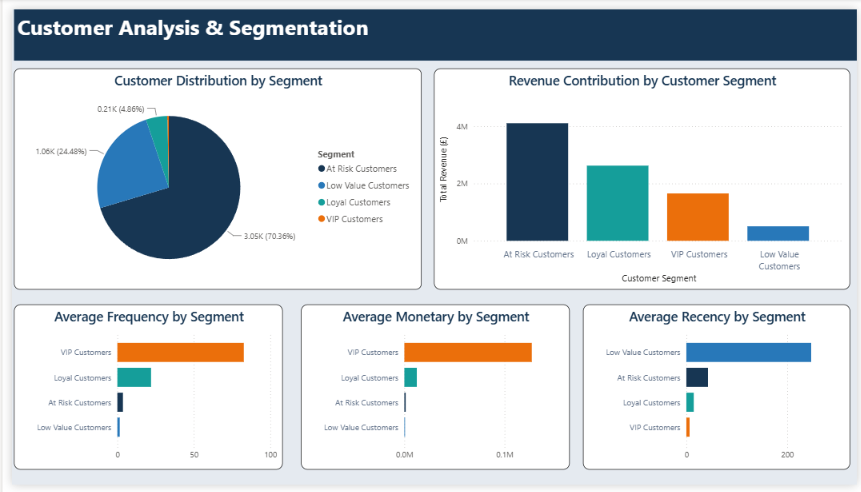

The dashboard page shown, as its layout file describes it:
{"tool":"powerbi","page":{"name":"Customer","canvas":[1280,720],"ordinal":1},"visuals":[{"type":"pieChart","title":"Customer Distribution by Segment","fields":{"Category":["rfm_data.Segment"],"Y":["Count(rfm_data.CustomerID)"]},"box":[2.5,90,617.5,335],"z":0},{"type":"columnChart","title":"Revenue Contribution by Customer Segment","fields":{"Category":["rfm_data.Segment"],"Y":["Sum(rfm_data.Monetary)"]},"box":[640,90,630,335],"z":1000},{"type":"barChart","title":"Average Frequency by Segment","fields":{"Category":["rfm_data.Segment"],"Y":["Avg(rfm_data.Frequency)"]},"box":[2.5,447.5,407.5,250],"z":2000},{"type":"barChart","title":"Average Monetary by Segment","fields":{"Category":["rfm_data.Segment"],"Y":["Avg(rfm_data.Monetary)"]},"box":[437.5,447.5,407.5,250],"z":3000},{"type":"barChart","title":"Average  Recency by Segment","fields":{"Category":["rfm_data.Segment"],"Y":["Avg(rfm_data.Recency)"]},"box":[865,447.5,405,250],"z":4000},{"type":"textbox","box":[2.5,0,1277.5,77.5],"z":5000}]}

Visuals, with their boxes in screenshot pixels (x1, y1, x2, y2), scaled from the page's 1280x720 canvas onto the 861x492 screenshot:
"Customer Distribution by Segment" pieChart: <box>2,62,417,290</box>
"Revenue Contribution by Customer Segment" columnChart: <box>430,62,854,290</box>
"Average Frequency by Segment" barChart: <box>2,306,276,477</box>
"Average Monetary by Segment" barChart: <box>294,306,568,477</box>
"Average  Recency by Segment" barChart: <box>582,306,854,477</box>
textbox: <box>2,0,860,53</box>
